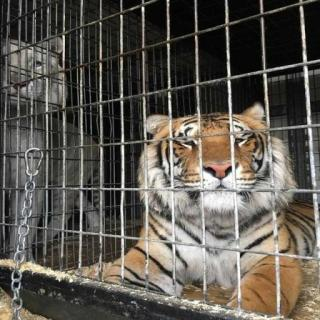Tiger: (89, 94, 320, 320)
